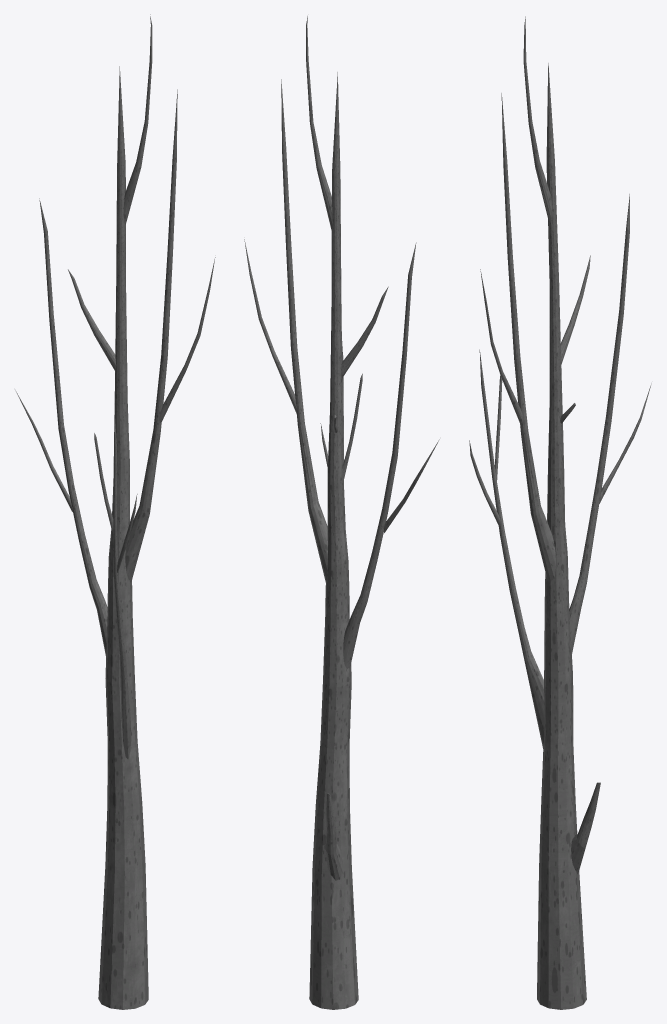
File: ForestWinterTree02.fbx
The picture shows the model from 3 angles, left to right: view 1: azimuth 30°, elevation 25°; view 2: azimuth 210°, elevation 25°; view 3: azimuth 270°, elevation 25°; orthographic projection. The views are drawn at different scales.
Parts seen in each view (by area): view 1: SM_ENV_NATURE_ForestTree_Winter02.mo; view 2: SM_ENV_NATURE_ForestTree_Winter02.mo; view 3: SM_ENV_NATURE_ForestTree_Winter02.mo.
Boxes of the visible parts, x1,y1,x2,y2 form: SM_ENV_NATURE_ForestTree_Winter02.mo: [15, 14, 215, 1009]; SM_ENV_NATURE_ForestTree_Winter02.mo: [244, 16, 439, 1009]; SM_ENV_NATURE_ForestTree_Winter02.mo: [469, 16, 651, 1009].
Bounding box in the file's own units: 144 × 1197 × 201.
Materials: 1 (1 with a texture image).
